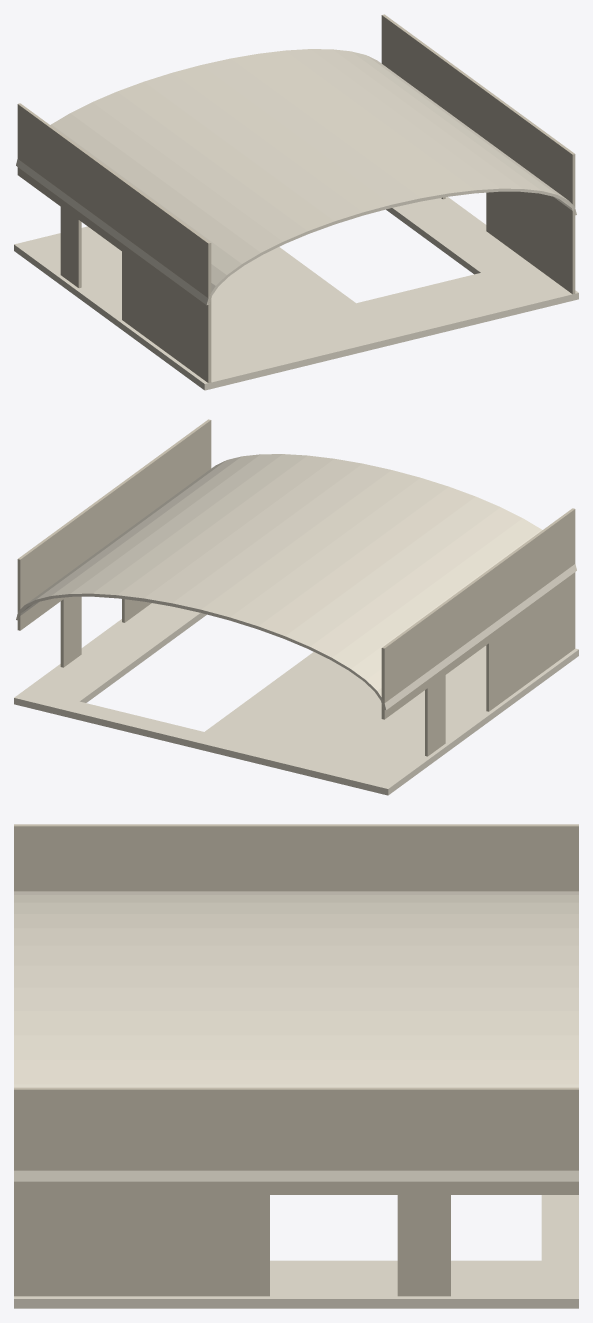
Rendered from VIC_B09_STAIR_HALL_Roblox.fbx.
3 renders of one model, top to bottom at view 1: azimuth 30°, elevation 25°; view 2: azimuth 150°, elevation 25°; view 3: azimuth 270°, elevation 25°, orthographic. The views are drawn at different scales.
Parts seen in each view (by area): view 1: VIC_B09_STAIR_HALL__Ivory, VIC_B09_STAIR_HALL__Stone, VIC_B09_STAIR_HALL__FloorWest__Ivory, VIC_B09_STAIR_HALL__FloorEast__Ivory, VIC_B09_STAIR_HALL__FloorSouth__Ivory; view 2: VIC_B09_STAIR_HALL__Ivory, VIC_B09_STAIR_HALL__Stone, VIC_B09_STAIR_HALL__FloorWest__Ivory, VIC_B09_STAIR_HALL__FloorEast__Ivory, VIC_B09_STAIR_HALL__FloorNorth__Ivory; view 3: VIC_B09_STAIR_HALL__Stone, VIC_B09_STAIR_HALL__Ivory, VIC_B09_STAIR_HALL__FloorEast__Ivory, VIC_B09_STAIR_HALL__FloorNorth__Ivory.
Boxes of the visible parts, <box> form: VIC_B09_STAIR_HALL__Ivory: <box>16,49,576,305</box>; VIC_B09_STAIR_HALL__Stone: <box>17,14,575,382</box>; VIC_B09_STAIR_HALL__FloorWest__Ivory: <box>14,226,401,390</box>; VIC_B09_STAIR_HALL__FloorEast__Ivory: <box>386,197,578,311</box>; VIC_B09_STAIR_HALL__FloorSouth__Ivory: <box>356,273,525,342</box>; VIC_B09_STAIR_HALL__Ivory: <box>16,454,576,710</box>; VIC_B09_STAIR_HALL__Stone: <box>17,419,575,756</box>; VIC_B09_STAIR_HALL__FloorWest__Ivory: <box>191,645,578,795</box>; VIC_B09_STAIR_HALL__FloorEast__Ivory: <box>14,603,206,716</box>; VIC_B09_STAIR_HALL__FloorNorth__Ivory: <box>67,701,203,747</box>; VIC_B09_STAIR_HALL__Stone: <box>14,824,578,1296</box>; VIC_B09_STAIR_HALL__Ivory: <box>14,891,578,1181</box>; VIC_B09_STAIR_HALL__FloorEast__Ivory: <box>14,1260,578,1308</box>; VIC_B09_STAIR_HALL__FloorNorth__Ivory: <box>541,1195,578,1260</box>.
Bounding box in the file's own units: 60 × 22.4 × 53.
